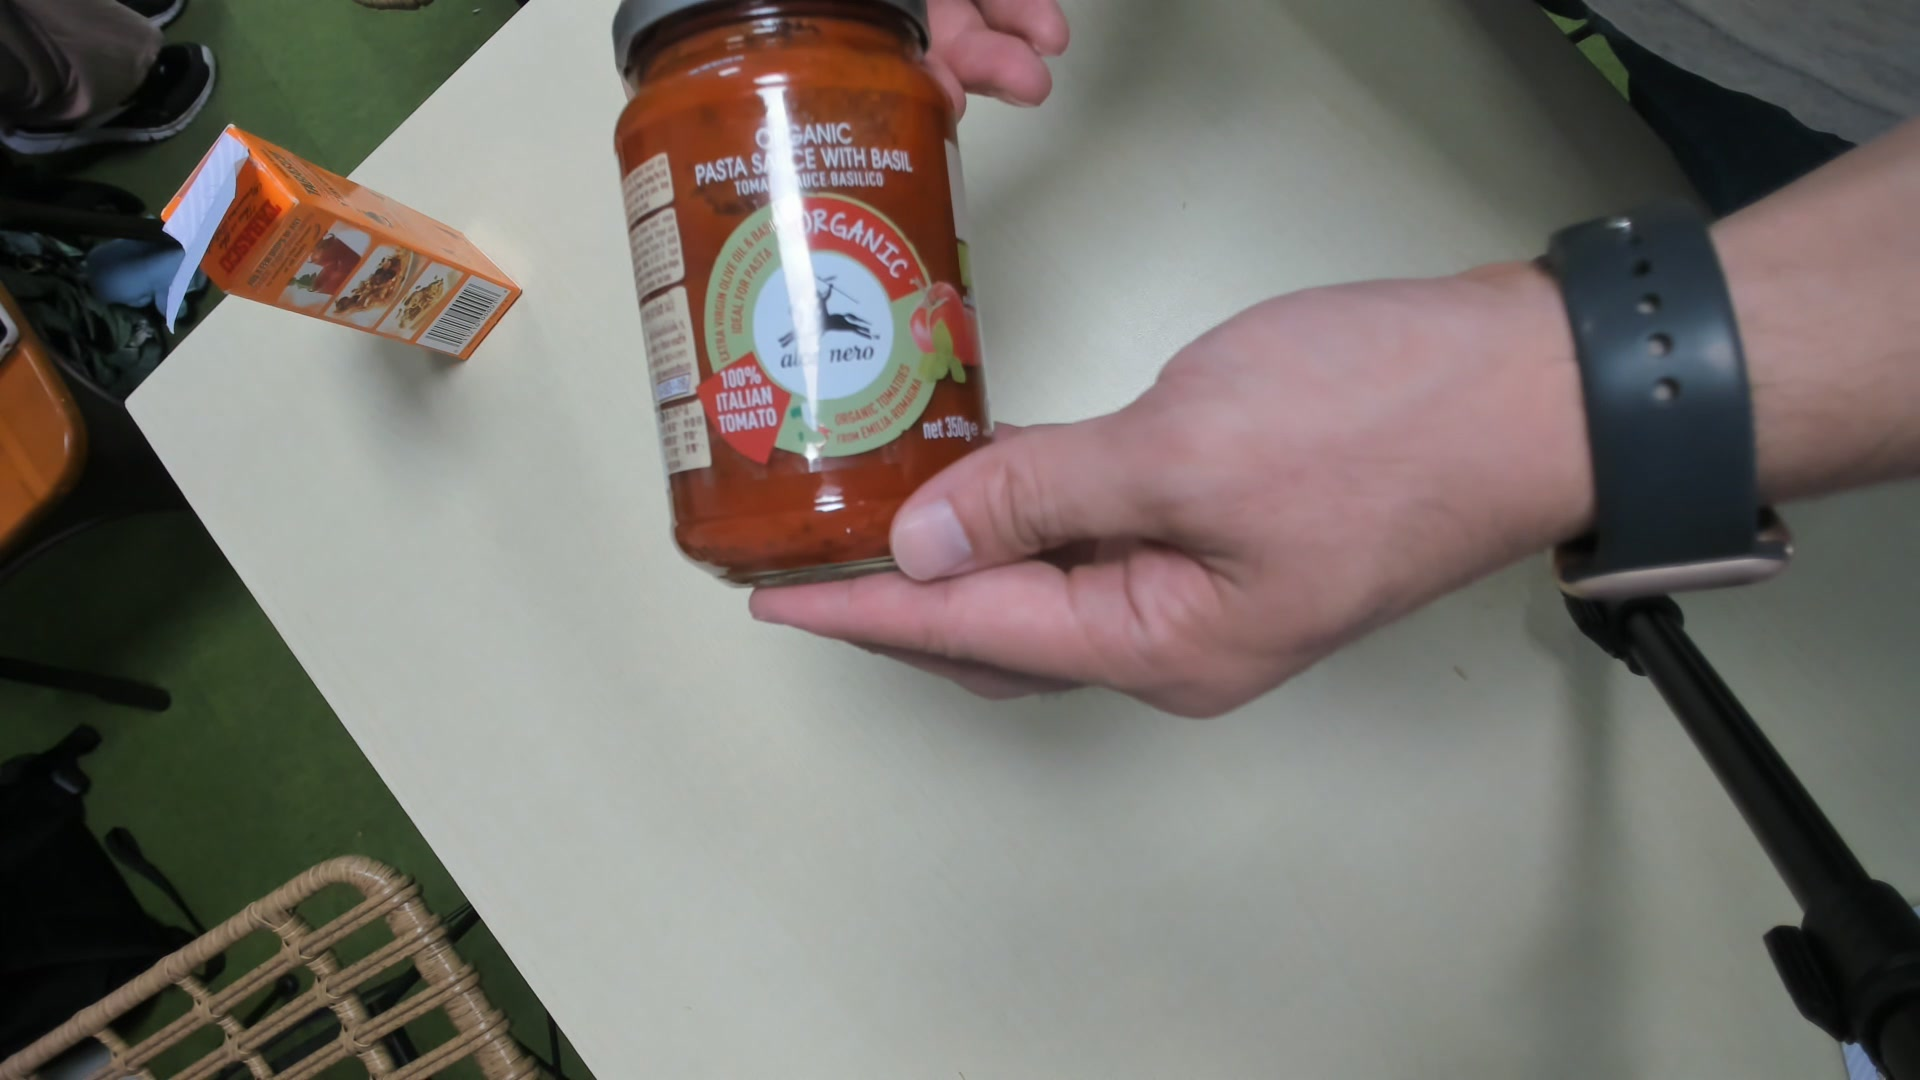PastaSauce_300-399g_NonHalal_NonHealthy: (603, 1, 1000, 585)
